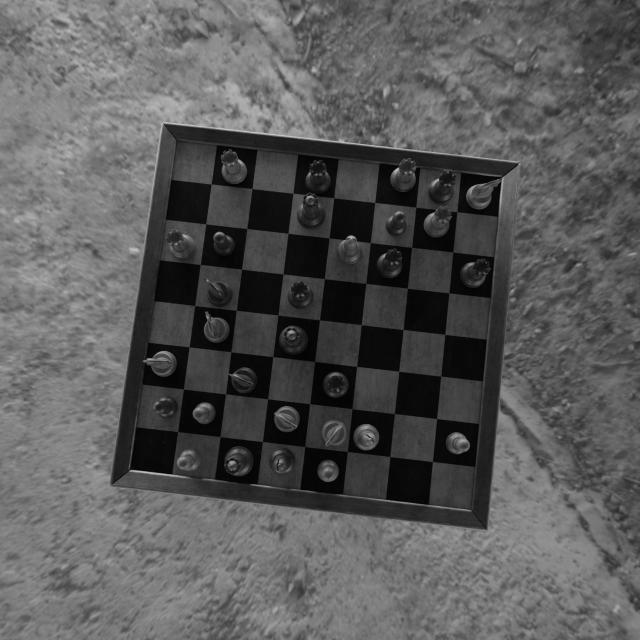chessboard: (130, 141, 501, 509)
